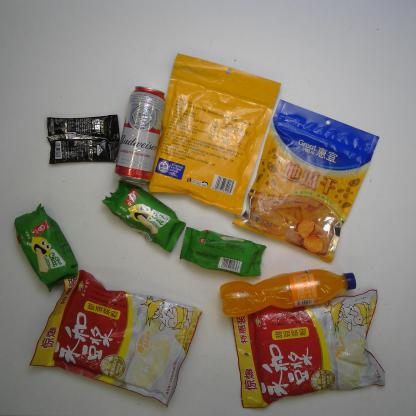Alcohol: (113, 84, 166, 186)
Dessert: (101, 178, 186, 252), (13, 202, 79, 293), (179, 226, 267, 277)
Dried Fruit: (229, 98, 380, 265), (148, 53, 282, 218)
Drink: (218, 268, 357, 319)
Instant Drink: (26, 268, 203, 409), (232, 288, 385, 409), (44, 114, 120, 164)
